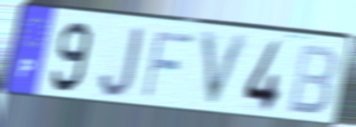4: (242, 38, 284, 116)
9: (50, 20, 95, 94)
B: (285, 42, 339, 118)
F: (139, 28, 198, 102)
J: (97, 25, 146, 100)
V: (198, 29, 253, 113)
